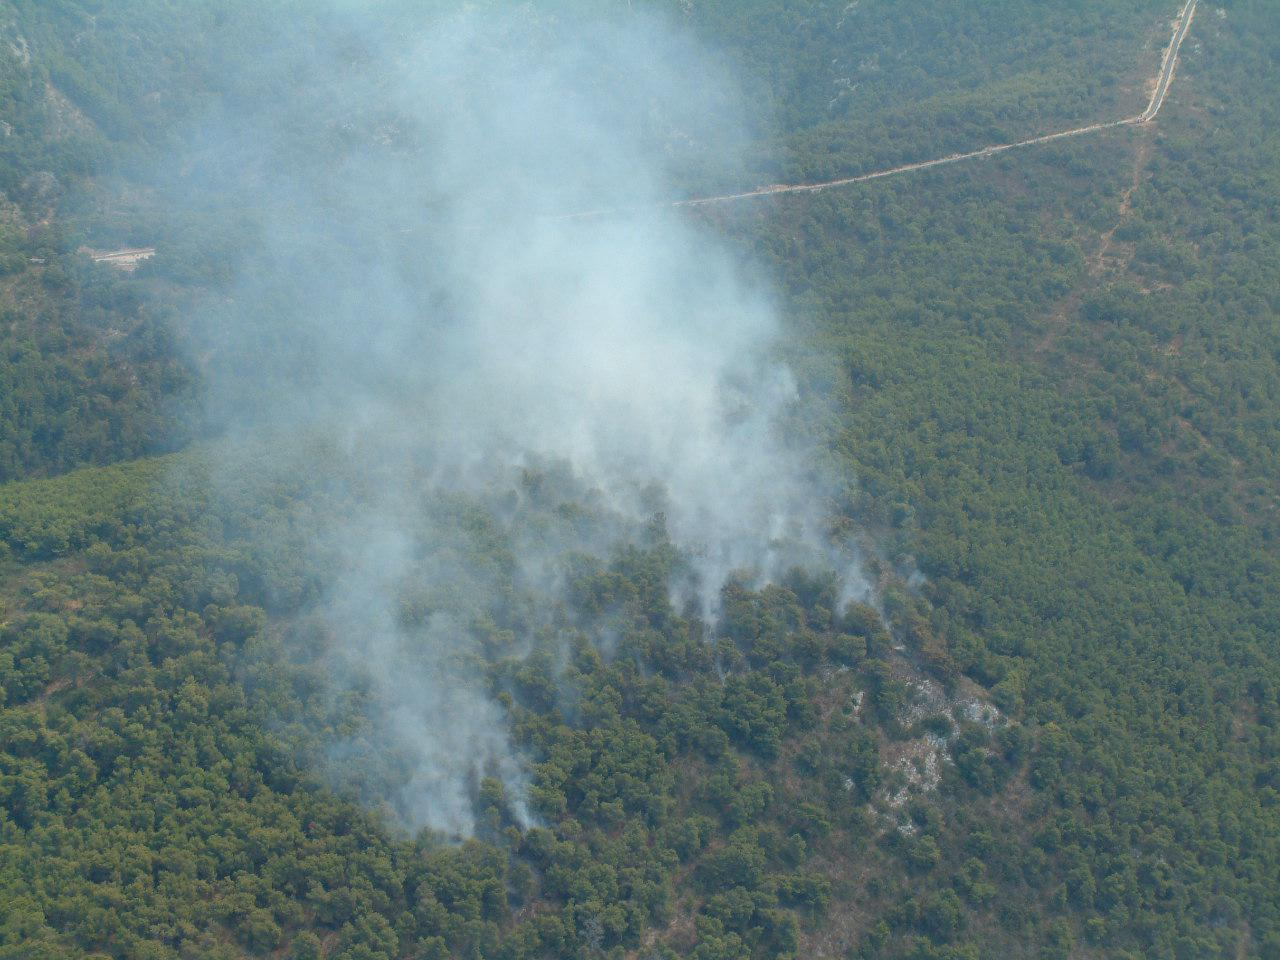Smoke: (84, 4, 898, 825)
